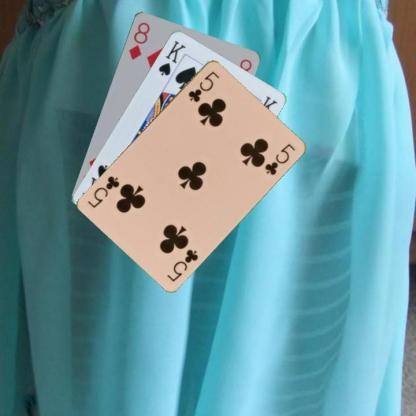5c: (164, 246, 199, 283), (186, 68, 220, 104)
8d: (126, 19, 151, 61)
Ks: (155, 37, 188, 77)
